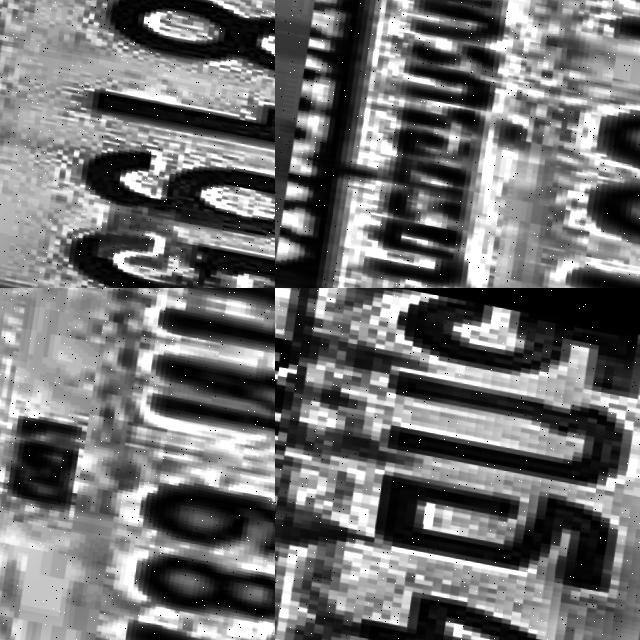license-plate: (275, 288, 640, 640), (278, 0, 640, 288), (0, 288, 275, 640), (0, 0, 275, 288)
